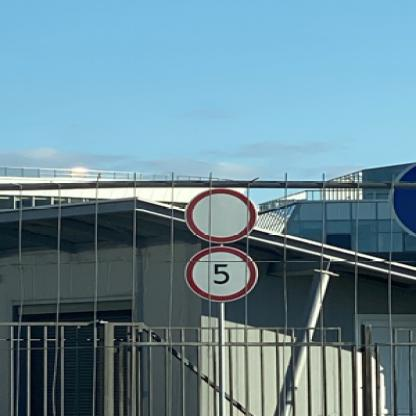speedlimit: (181, 246, 254, 302)
